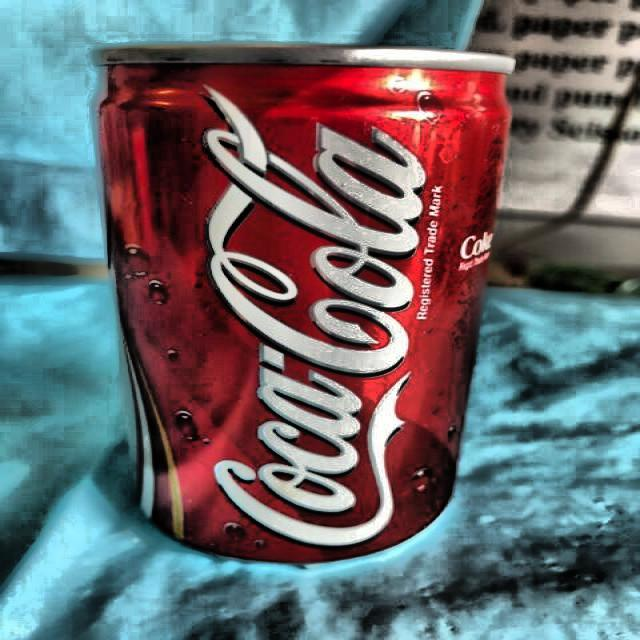Cans: (43, 12, 532, 584)
